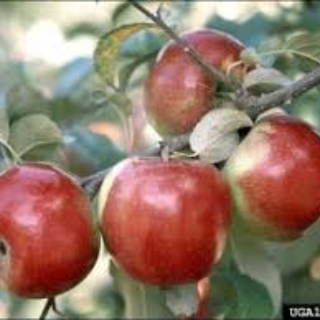tao: (96, 148, 234, 292)
